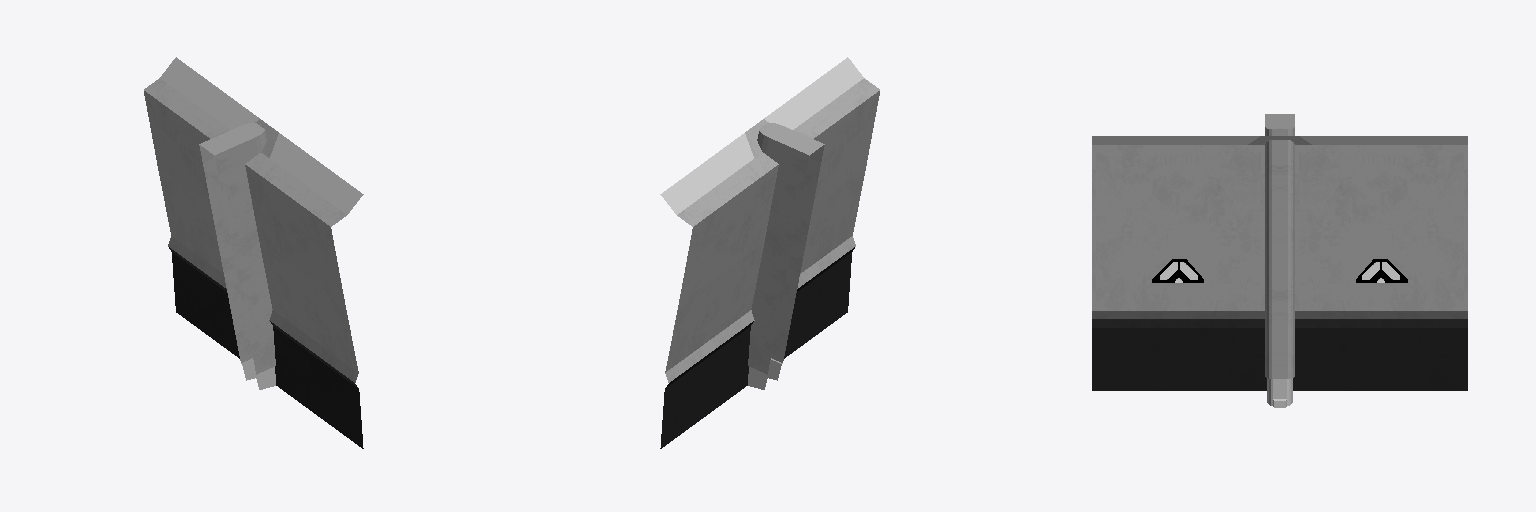
3 renders of one model, left to right at view 1: azimuth 30°, elevation 25°; view 2: azimuth 150°, elevation 25°; view 3: azimuth 270°, elevation 25°, orthographic.
Parts seen in each view (by area): view 1: WallAstra_Straight_Cube.017; view 2: WallAstra_Straight_Cube.017; view 3: WallAstra_Straight_Cube.017.
Boxes of the visible parts, <box> form: WallAstra_Straight_Cube.017: <box>144,57,363,448</box>; WallAstra_Straight_Cube.017: <box>660,57,879,448</box>; WallAstra_Straight_Cube.017: <box>1092,114,1467,407</box>.
Size of the model in its own units: 1.21 by 3.03 by 4.
Materials: 5 (3 with a texture image).